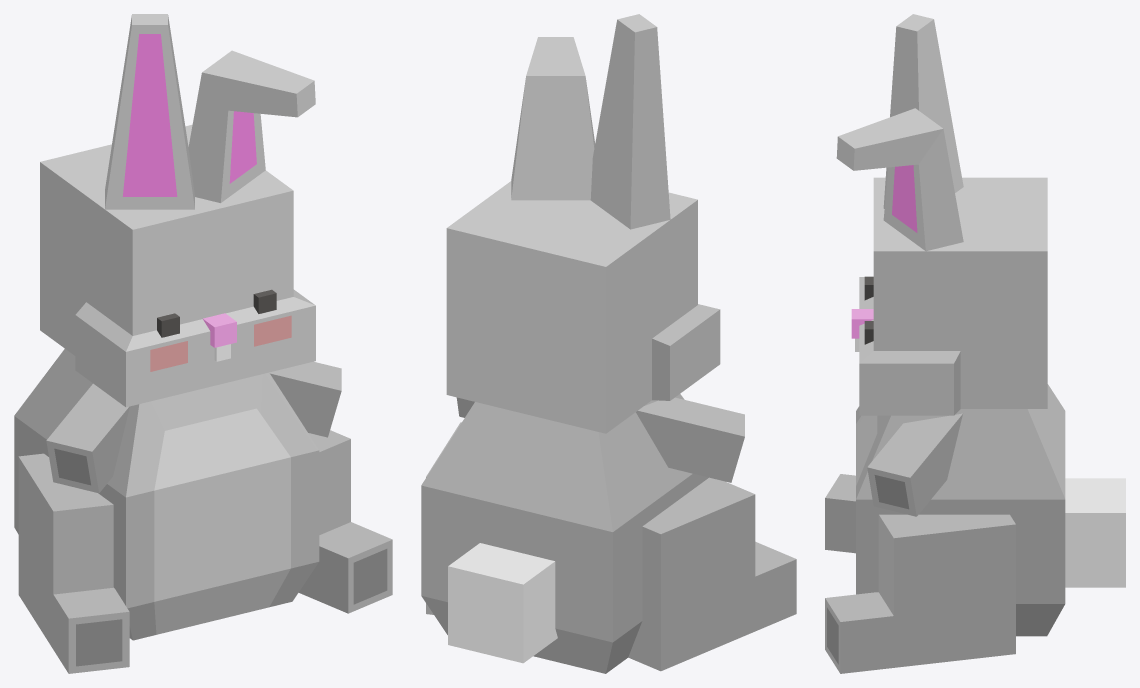
The model's file is ToyRabbit.glb.
The picture shows the model from 3 angles, left to right: view 1: azimuth 30°, elevation 25°; view 2: azimuth 150°, elevation 25°; view 3: azimuth 270°, elevation 25°; orthographic projection. The views are drawn at different scales.
Visible parts, largest first — view 1: SI_Prop_Toy_Rabbit_01; view 2: SI_Prop_Toy_Rabbit_01; view 3: SI_Prop_Toy_Rabbit_01.
Boxes of the visible parts, left/top/right/bottom form: SI_Prop_Toy_Rabbit_01: left=14, top=14, right=392, bottom=673; SI_Prop_Toy_Rabbit_01: left=421, top=14, right=796, bottom=673; SI_Prop_Toy_Rabbit_01: left=825, top=14, right=1125, bottom=673.
Bounding box in the file's own units: 0.00266 × 0.00468 × 0.00228.
Materials: 1 (1 with a texture image).
